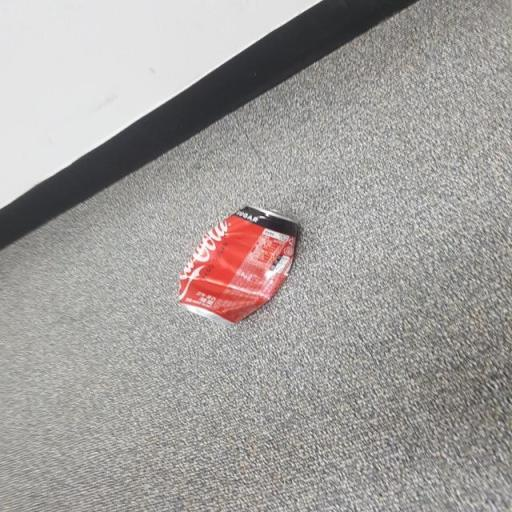metal: (160, 200, 318, 334)
